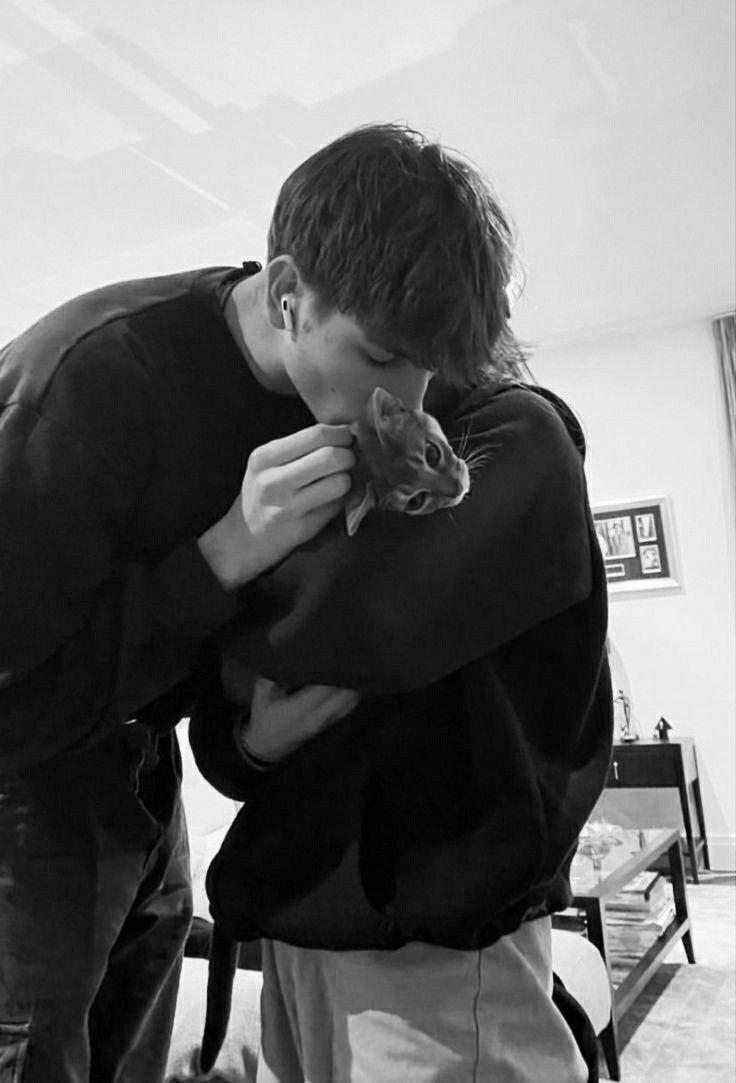kedo: (342, 385, 470, 537)
